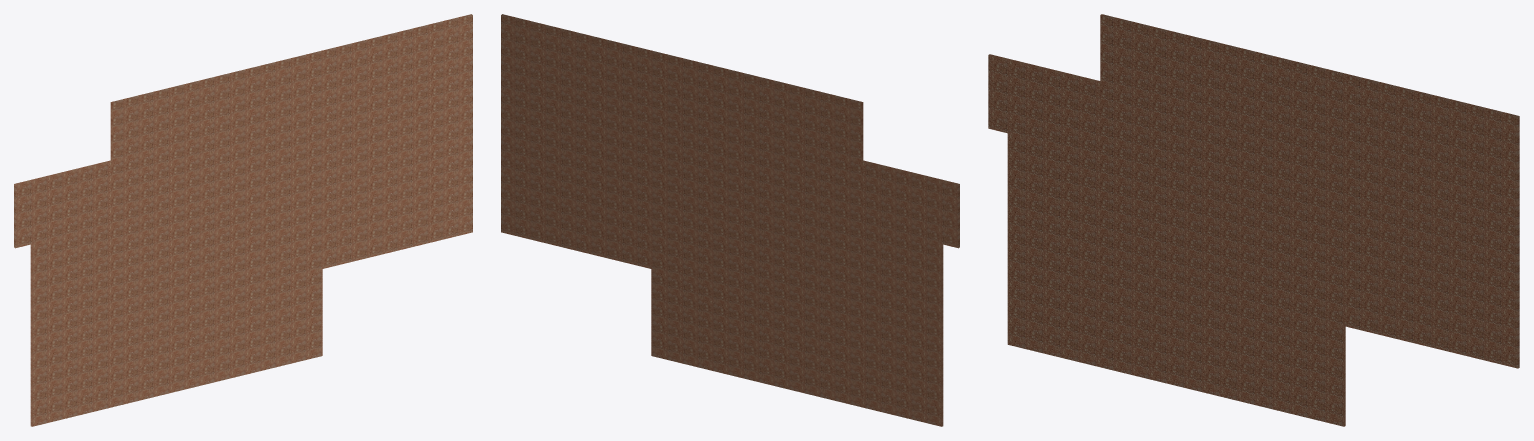
The model's file is floor_7.obj.
3 views of the same model, side by side, from view 1: azimuth 30°, elevation 25°; view 2: azimuth 150°, elevation 25°; view 3: azimuth 330°, elevation 25° (orthographic). The views are drawn at different scales.
Visible parts, largest first — view 1: floor_7; view 2: floor_7; view 3: floor_7.
Part boxes in pixels (x1,y1,x2,y2): floor_7: [14, 14, 472, 426]; floor_7: [501, 14, 959, 426]; floor_7: [988, 14, 1519, 426].
Size of the model in its own units: 30.05 by 19.1 by 0.1.
1 material, 1 textured.
